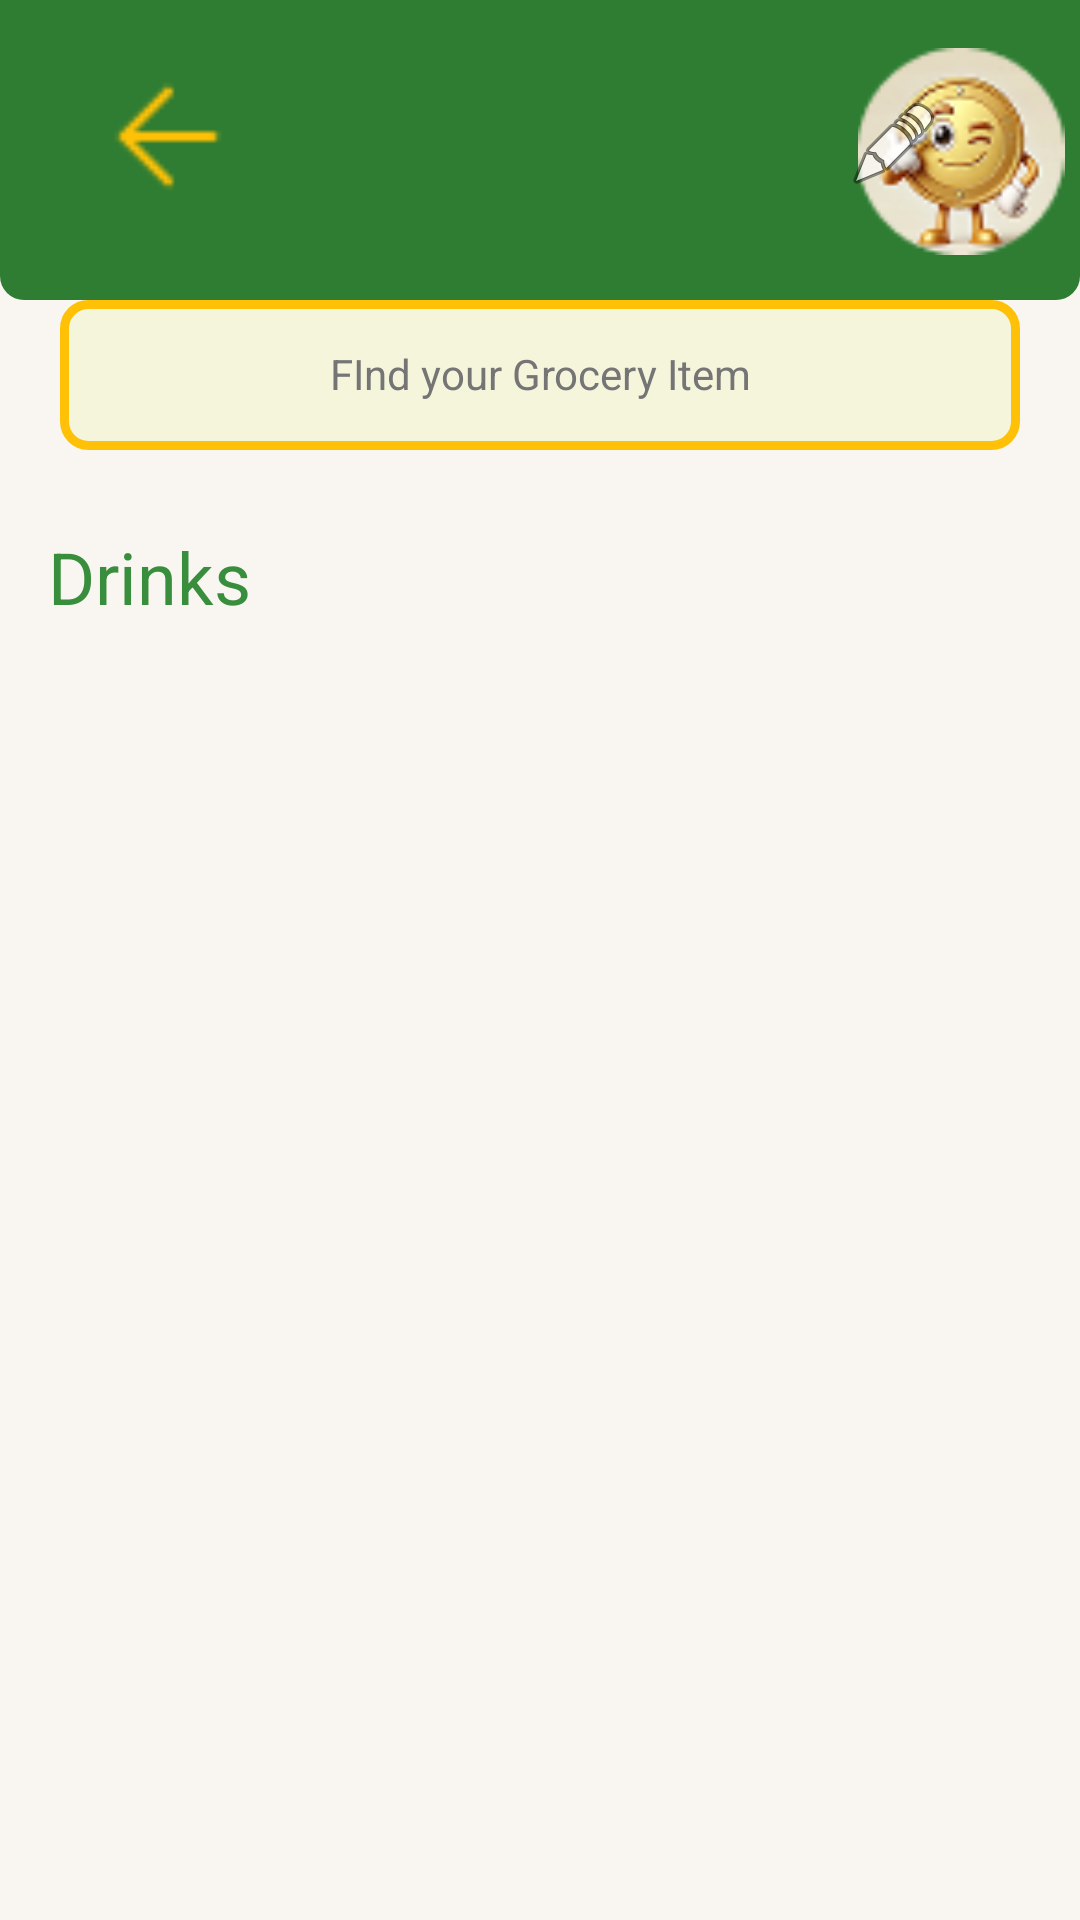

Screen size 1080×1920. Icon name, then its box in pixels as region(x1, y1, x2, y2):
arrow left: region(116, 85, 220, 188)
